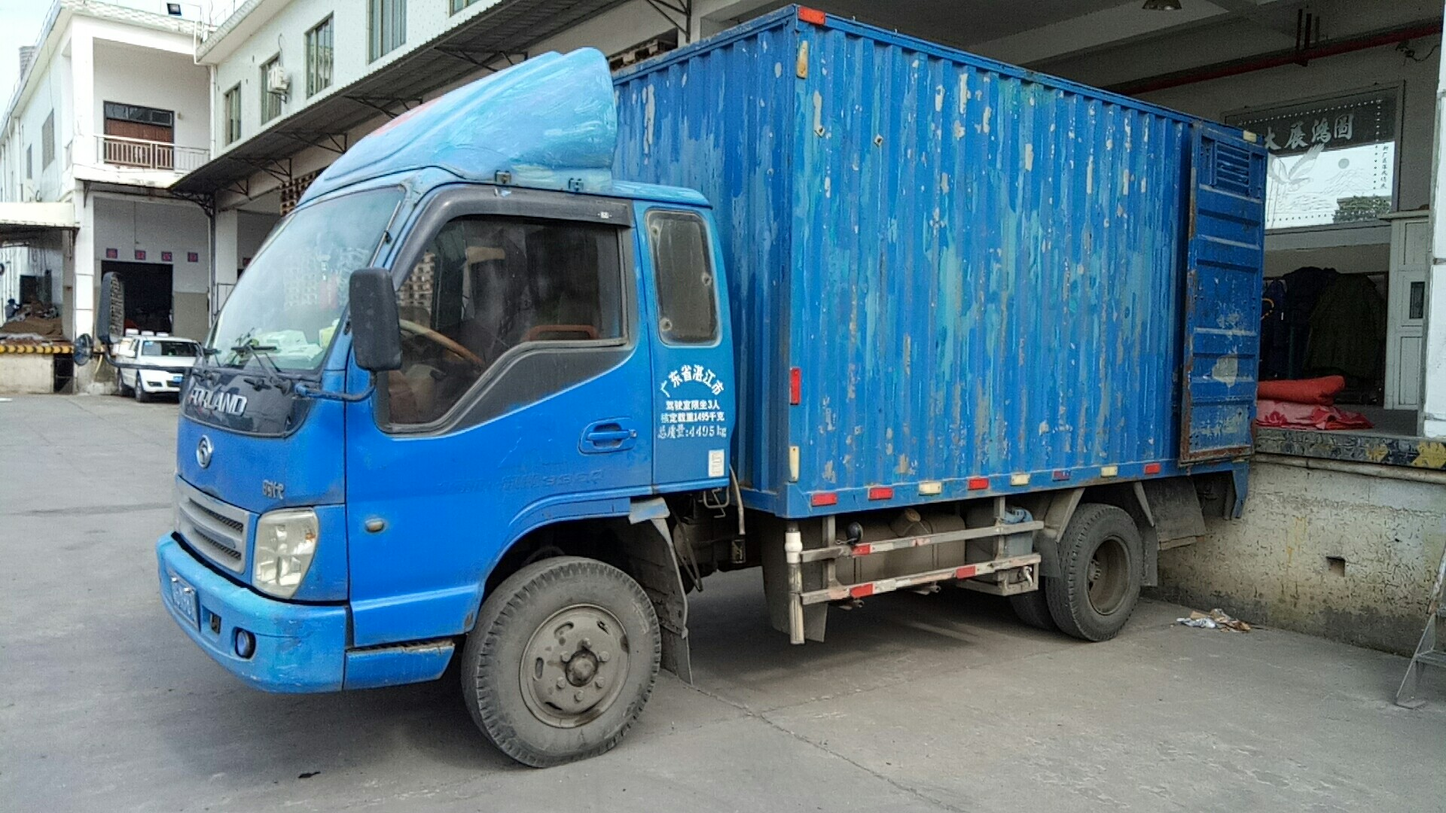smalltruck: (172, 13, 1264, 759)
